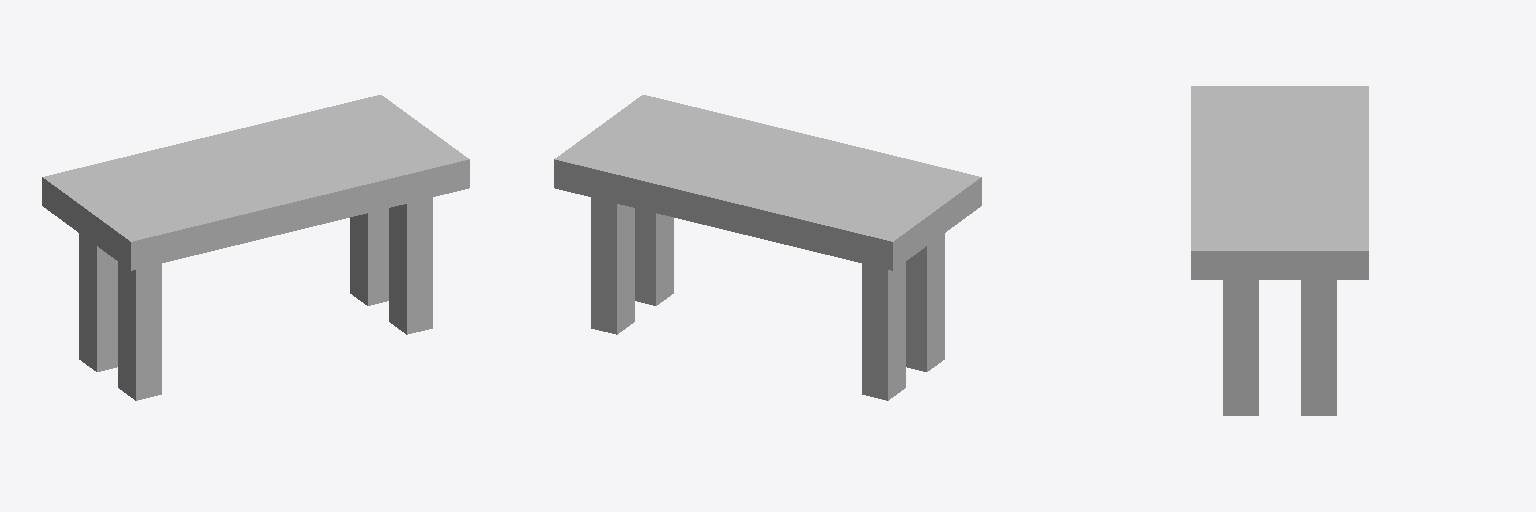
Rendered from Table2.obj.
3 views of the same model, side by side, from view 1: azimuth 30°, elevation 25°; view 2: azimuth 150°, elevation 25°; view 3: azimuth 270°, elevation 25° (orthographic).
Parts seen in each view (by area): view 1: Cube; view 2: Cube; view 3: Cube.
Part boxes in pixels (x1,y1,x2,y2): Cube: (42,95,469,400); Cube: (554,95,981,400); Cube: (1191,86,1368,415).
Bounding box in the file's own units: 6.02 × 2.98 × 2.73.